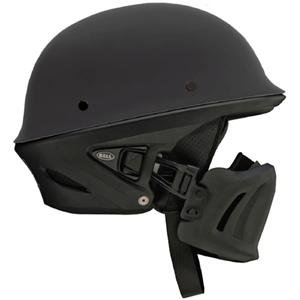with_helmet: (9, 1, 291, 299)
